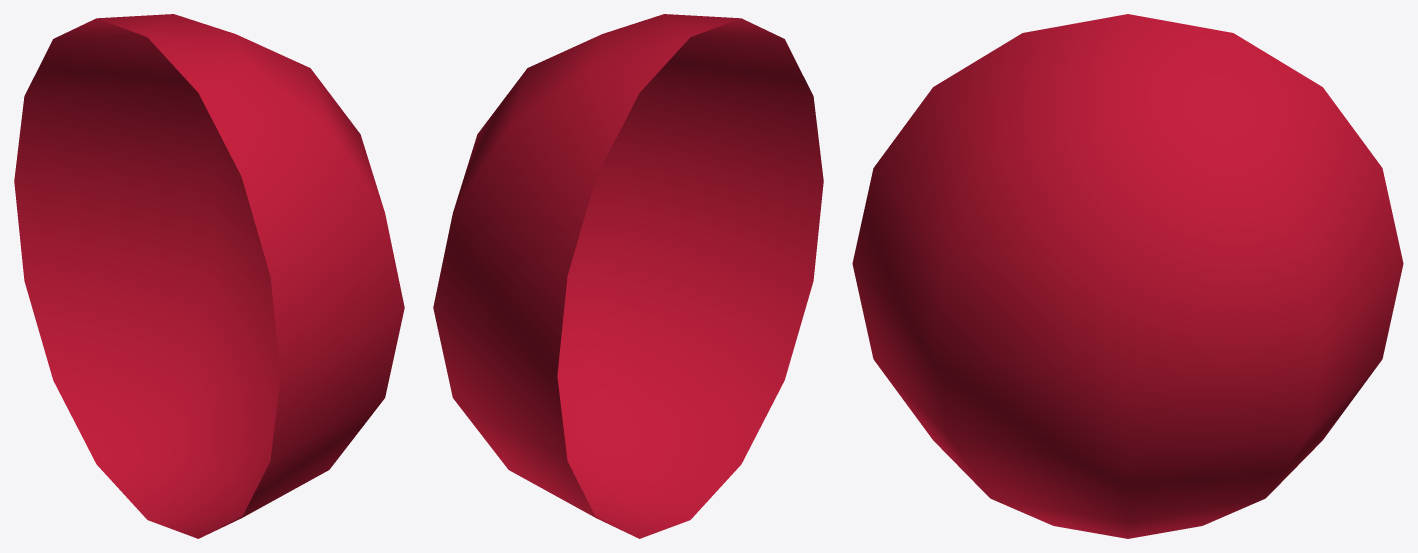
Rendered from red_button.glb.
3 views of the same model, side by side, from view 1: azimuth 30°, elevation 25°; view 2: azimuth 150°, elevation 25°; view 3: azimuth 270°, elevation 25° (orthographic). The views are drawn at different scales.
Parts seen in each view (by area): view 1: Sphere.002; view 2: Sphere.002; view 3: Sphere.002.
Boxes of the visible parts, left/top/right/bottom form: Sphere.002: left=14, top=14, right=404, bottom=538; Sphere.002: left=433, top=14, right=823, bottom=538; Sphere.002: left=852, top=14, right=1403, bottom=538.
Bounding box in the file's own units: 0.025 × 0.05 × 0.05.
Materials: 1 (1 with a texture image).
